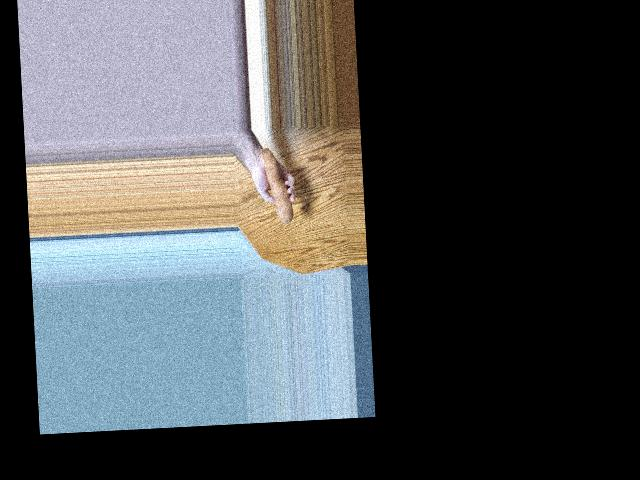sweet_potato: (263, 149, 295, 226)
